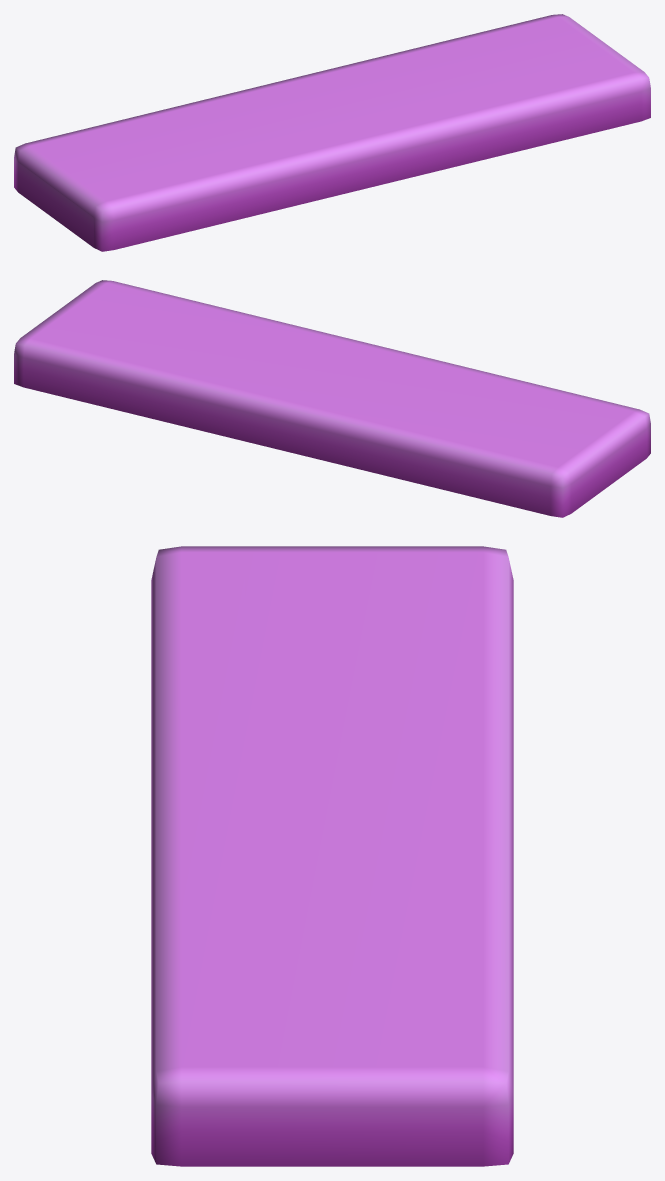
File: Small_Retangulo.fbx
3 renders of one model, top to bottom at view 1: azimuth 30°, elevation 25°; view 2: azimuth 150°, elevation 25°; view 3: azimuth 270°, elevation 25°, orthographic. The views are drawn at different scales.
Visible parts, largest first — view 1: Plane.047; view 2: Plane.047; view 3: Plane.047.
Boxes of the visible parts, x1=… form: Plane.047: x1=14, y1=14, x2=650, y2=251; Plane.047: x1=14, y1=280, x2=650, y2=517; Plane.047: x1=151, y1=546, x2=513, y2=1166.
Size of the model in its own units: 458 by 34.32 by 130.
